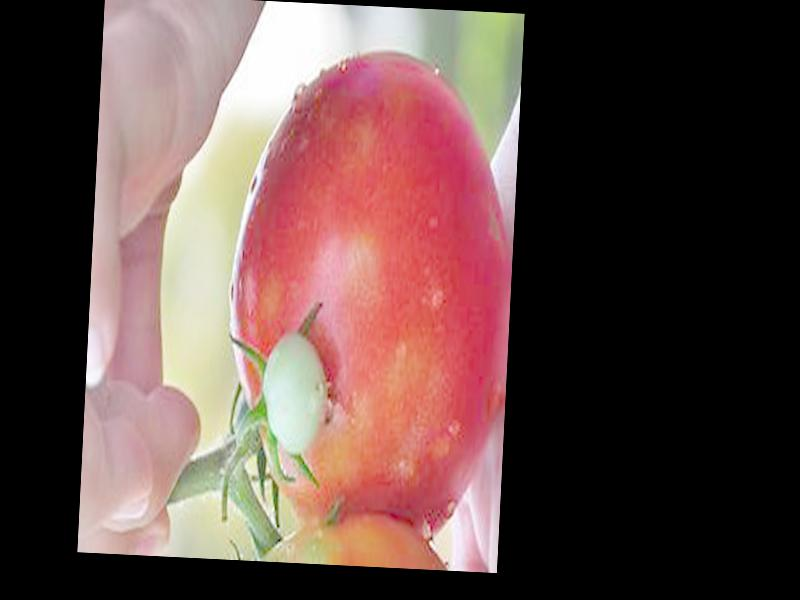Tomato: (218, 45, 522, 539)
